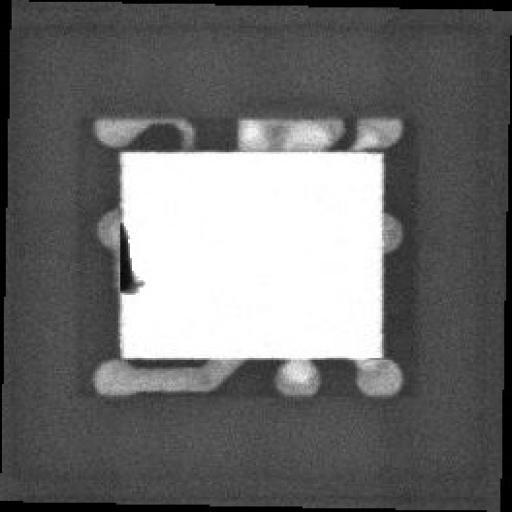DIE_BROKEN: (112, 219, 146, 299)
